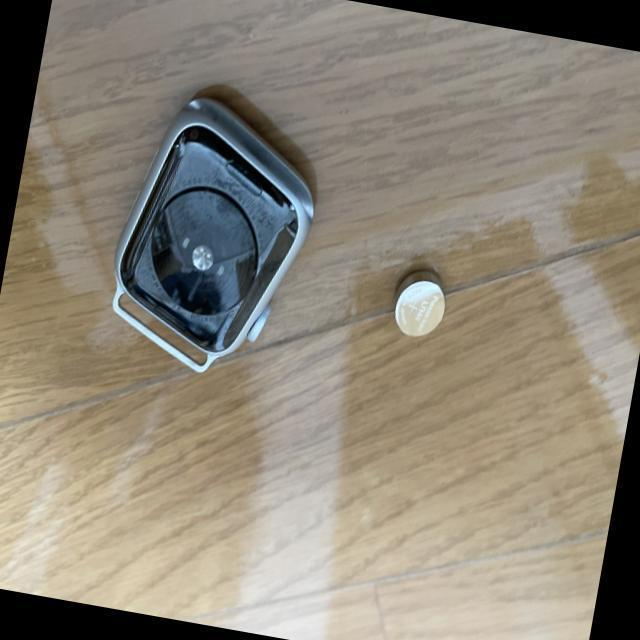COIN: (389, 268, 453, 341)
